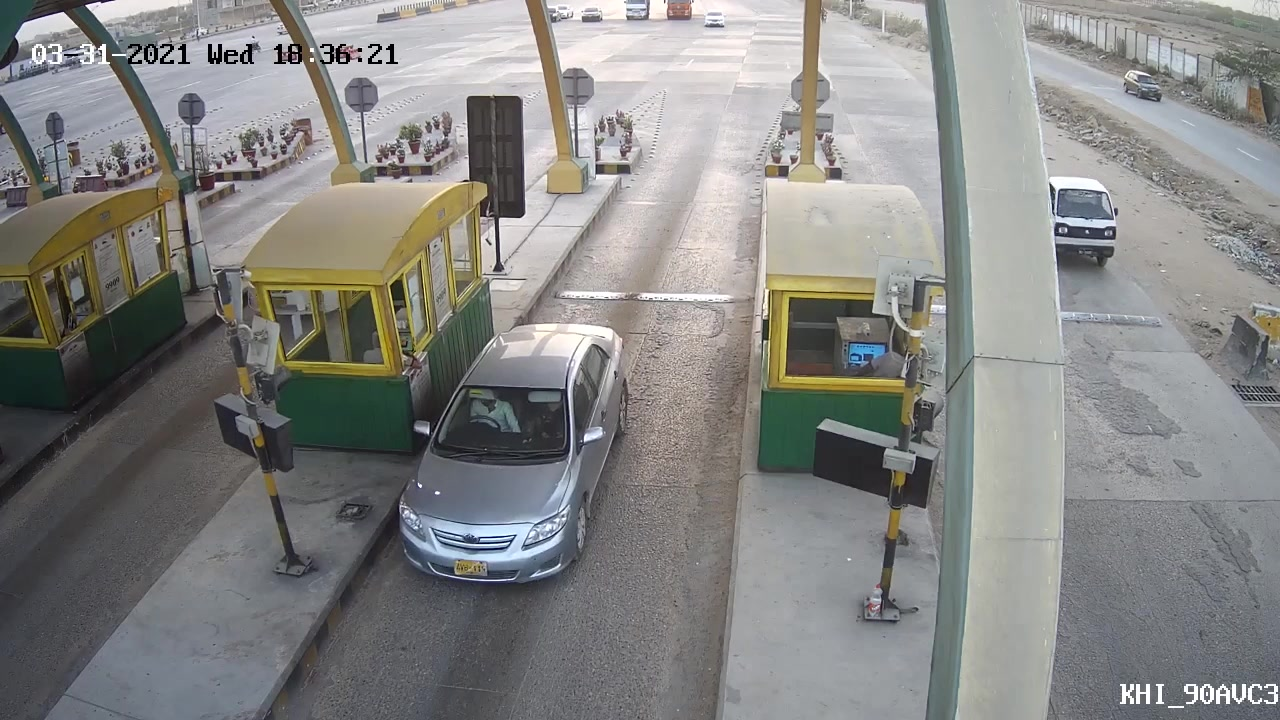F1: (389, 320, 635, 588)
